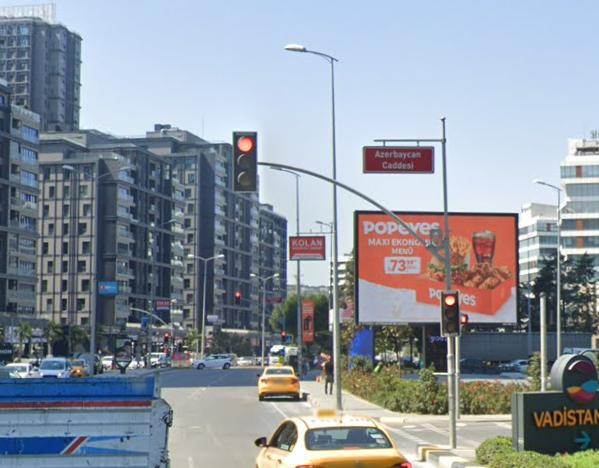redlight: (236, 131, 255, 189), (442, 292, 460, 336)
